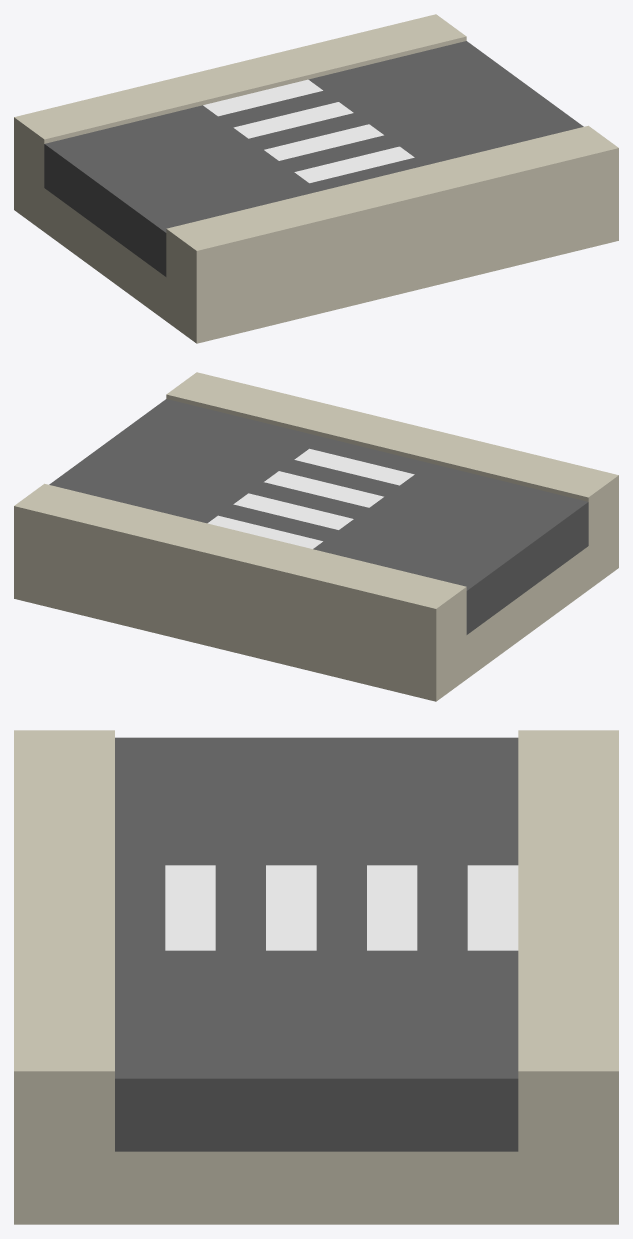
The model's file is tile136.obj.
3 renders of one model, top to bottom at view 1: azimuth 30°, elevation 25°; view 2: azimuth 150°, elevation 25°; view 3: azimuth 270°, elevation 25°, orthographic. The views are drawn at different scales.
Parts seen in each view (by area): view 1: tile136; view 2: tile136; view 3: tile136.
Boxes of the visible parts, x1,y1,x2,y2 form: tile136: (14,14,618,343); tile136: (14,372,618,701); tile136: (14,730,618,1224).
Bounding box in the file's own units: 1 × 0.21 × 0.75.
